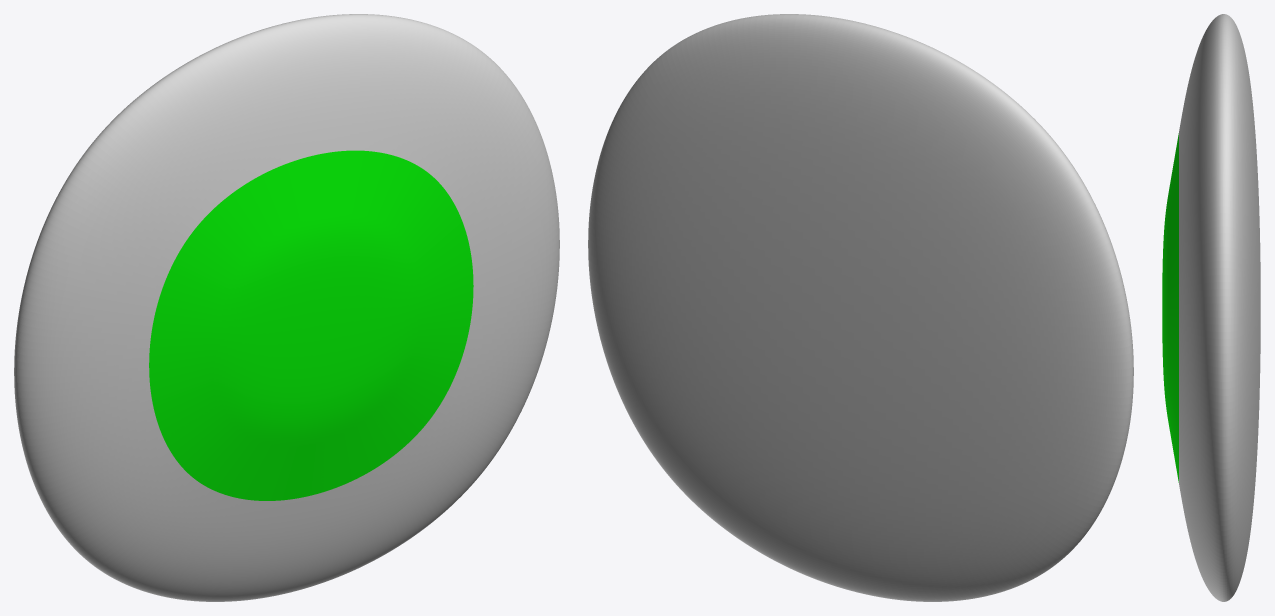
File: ALVO Verde .fbx
3 views of the same model, side by side, from view 1: azimuth 30°, elevation 25°; view 2: azimuth 150°, elevation 25°; view 3: azimuth 270°, elevation 25° (orthographic). The views are drawn at different scales.
Parts seen in each view (by area): view 1: Cube; view 2: Cube; view 3: Cube.
Part boxes in pixels (x1,y1,x2,y2): Cube: (14,14,559,601); Cube: (588,14,1133,601); Cube: (1162,14,1260,601).
Size of the model in its own units: 177 by 177 by 30.12.
